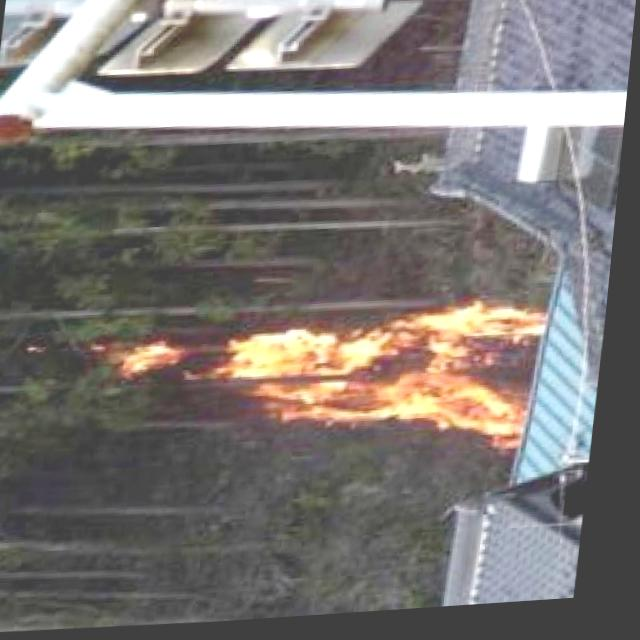no_helmet: (110, 298, 563, 472)
